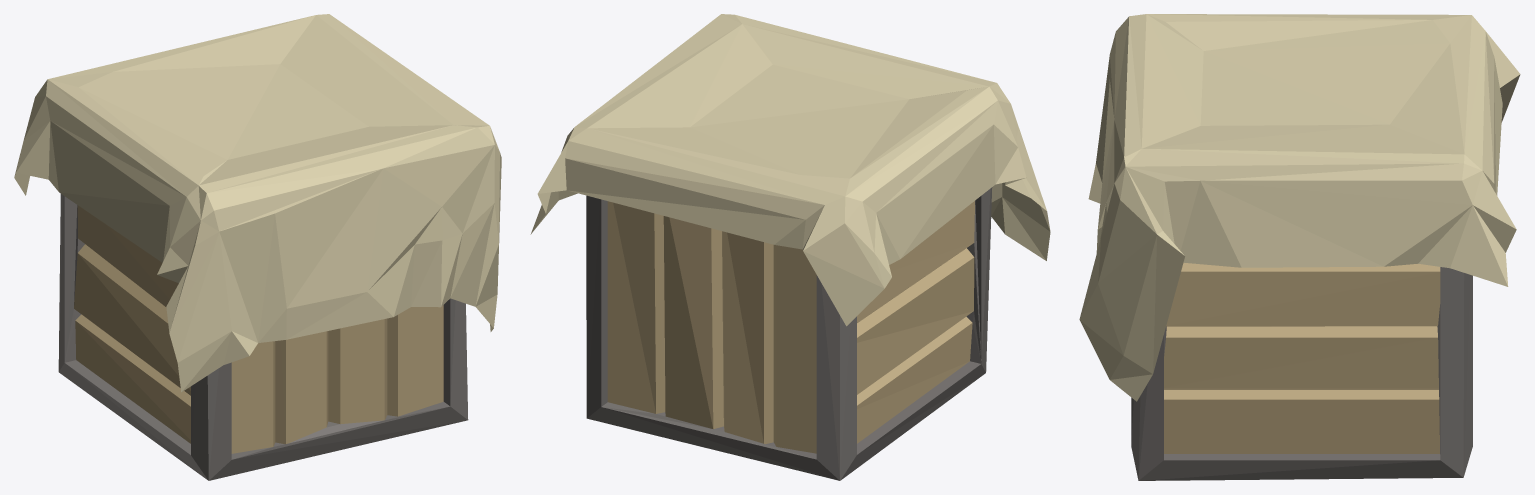
The model's file is Crate.fbx.
3 renders of one model, left to right at view 1: azimuth 30°, elevation 25°; view 2: azimuth 150°, elevation 25°; view 3: azimuth 270°, elevation 25°, orthographic. The views are drawn at different scales.
Parts seen in each view (by area): view 1: TwP_Prop_Crate_02; view 2: TwP_Prop_Crate_02; view 3: TwP_Prop_Crate_02.
Boxes of the visible parts, x1,y1,x2,y2 form: TwP_Prop_Crate_02: (14,14,501,480); TwP_Prop_Crate_02: (530,14,1050,480); TwP_Prop_Crate_02: (1079,14,1520,480).
Size of the model in its own units: 1.12 by 0.9037 by 1.09.
1 material, 1 textured.
